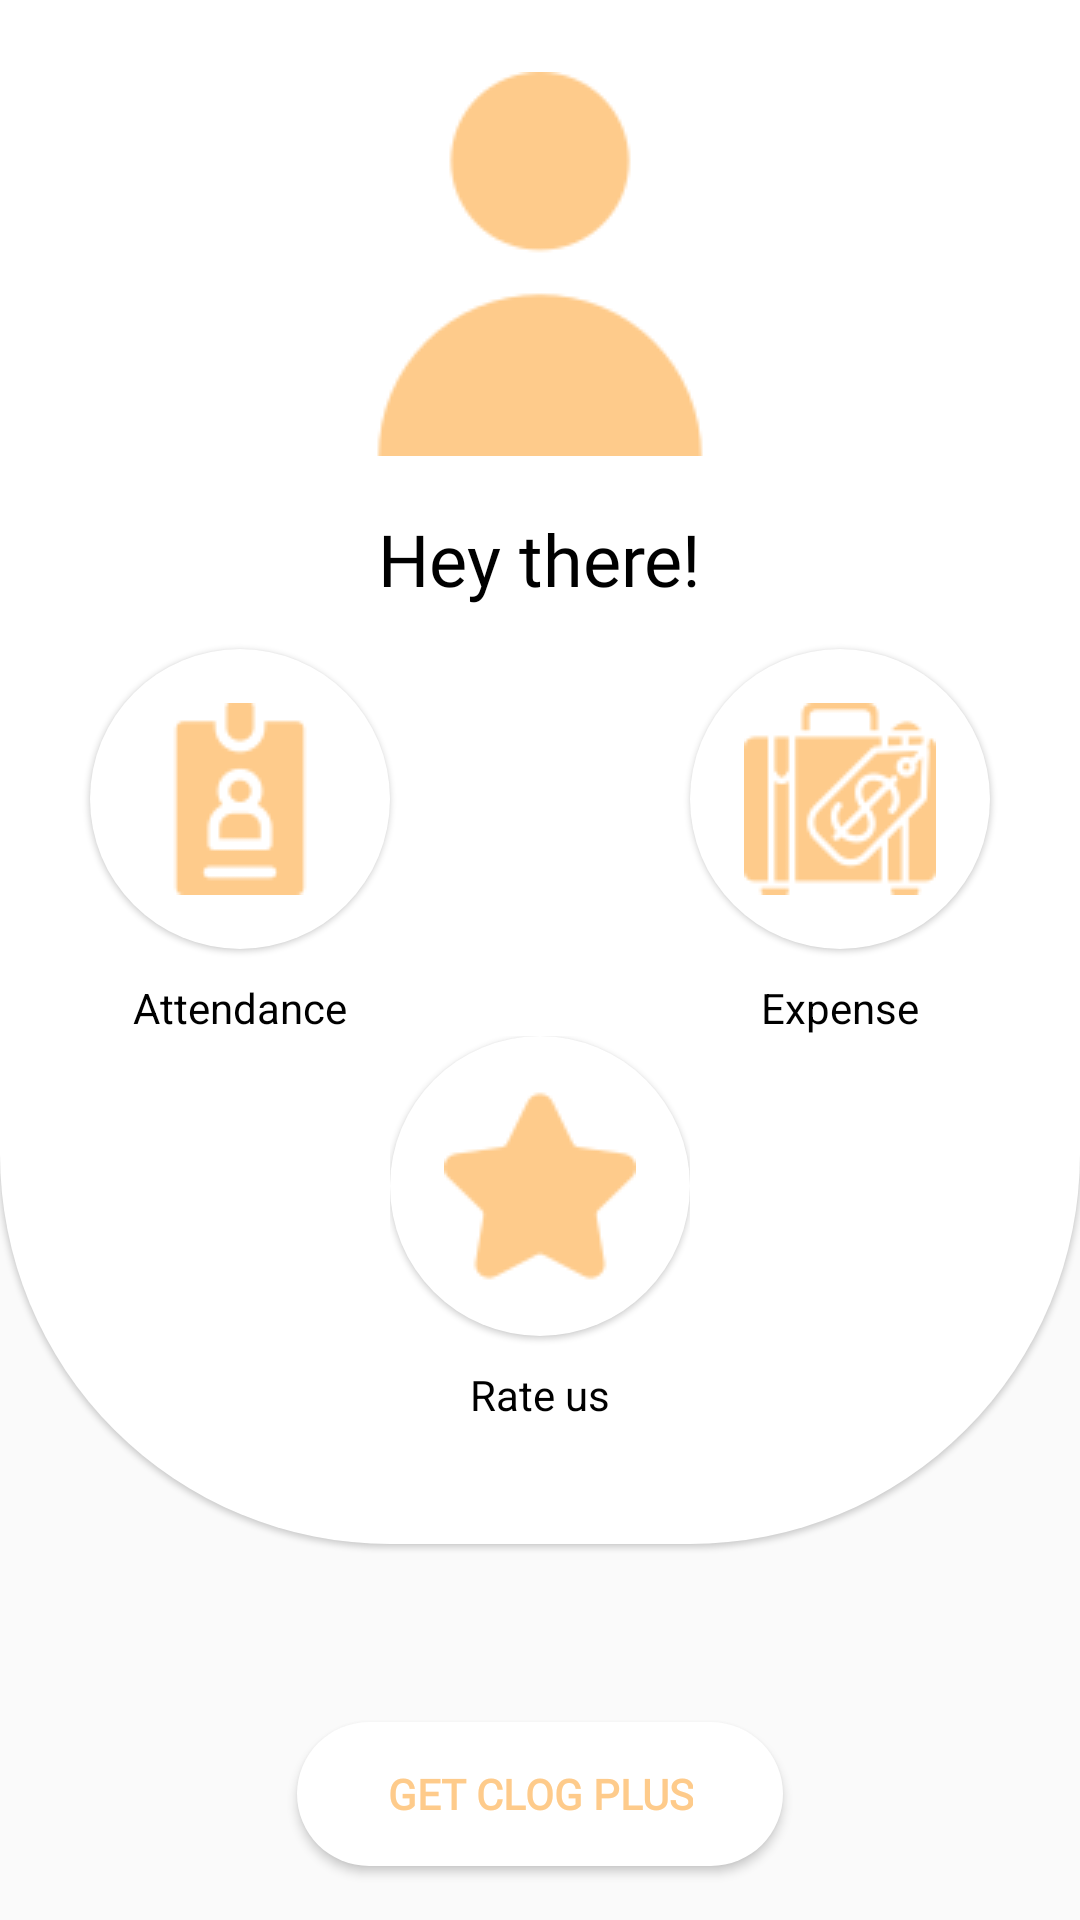

Screen size 1080 x 1920. Icon name, then its box in pixels as (x1, y1, x2, y2):
id card: (90, 703, 376, 949)
star: (390, 1093, 690, 1336)
